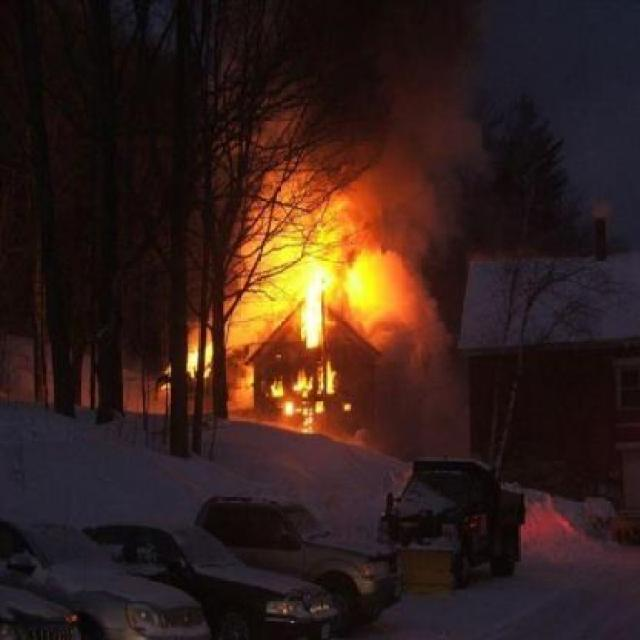Fire: (176, 175, 438, 444)
Smoke: (188, 4, 491, 256), (369, 290, 477, 446)
